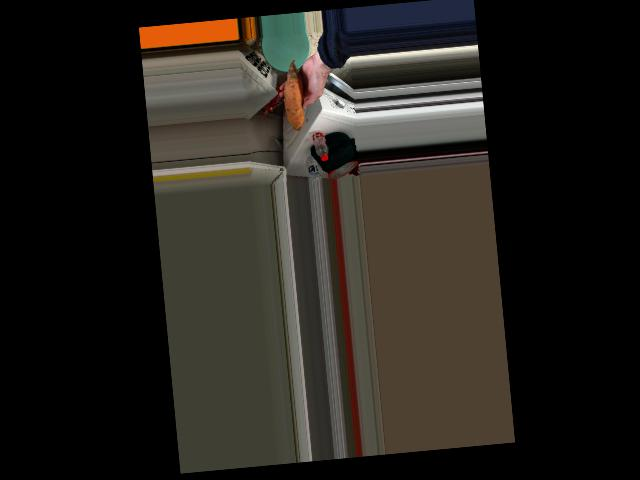sweet_potato: (284, 73, 310, 122)
